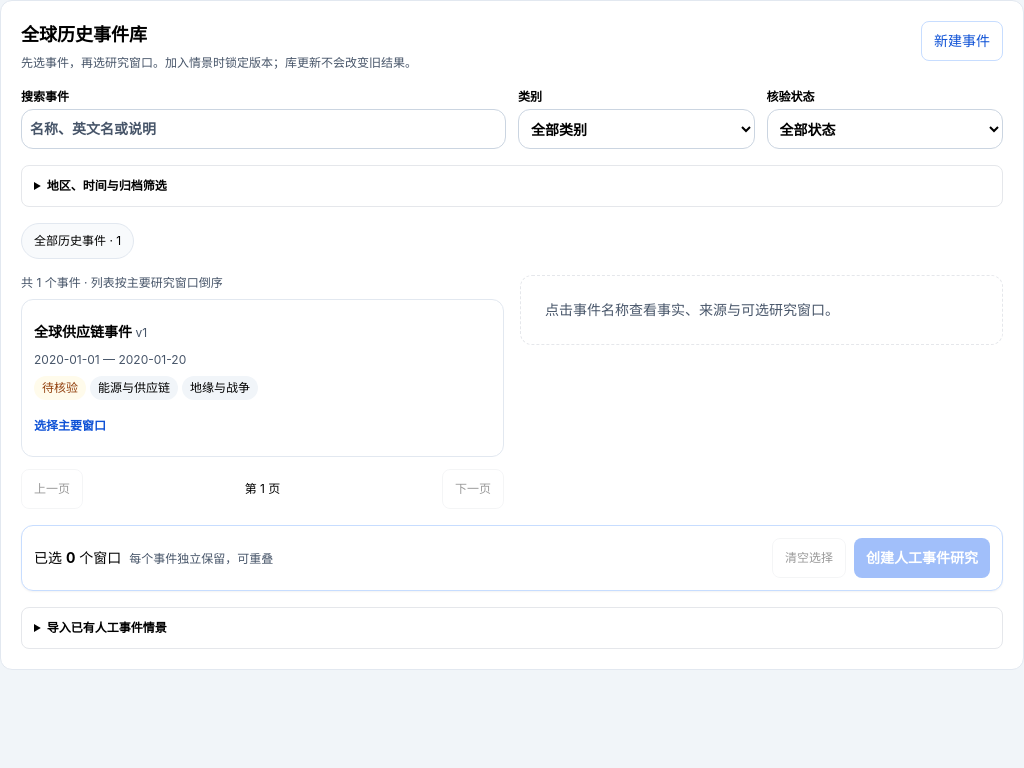
Test: 全球事件库 › 搜索请求使用当前筛选，空结果不会保留旧列表
Expected: the button "全球供应链事件 v1" is shown, [34,312,491,352]
Type "不存在的事件" into the search field named "事件库搜索".
click(264, 129); type("不存在的事件")  # box [21,109,506,149]
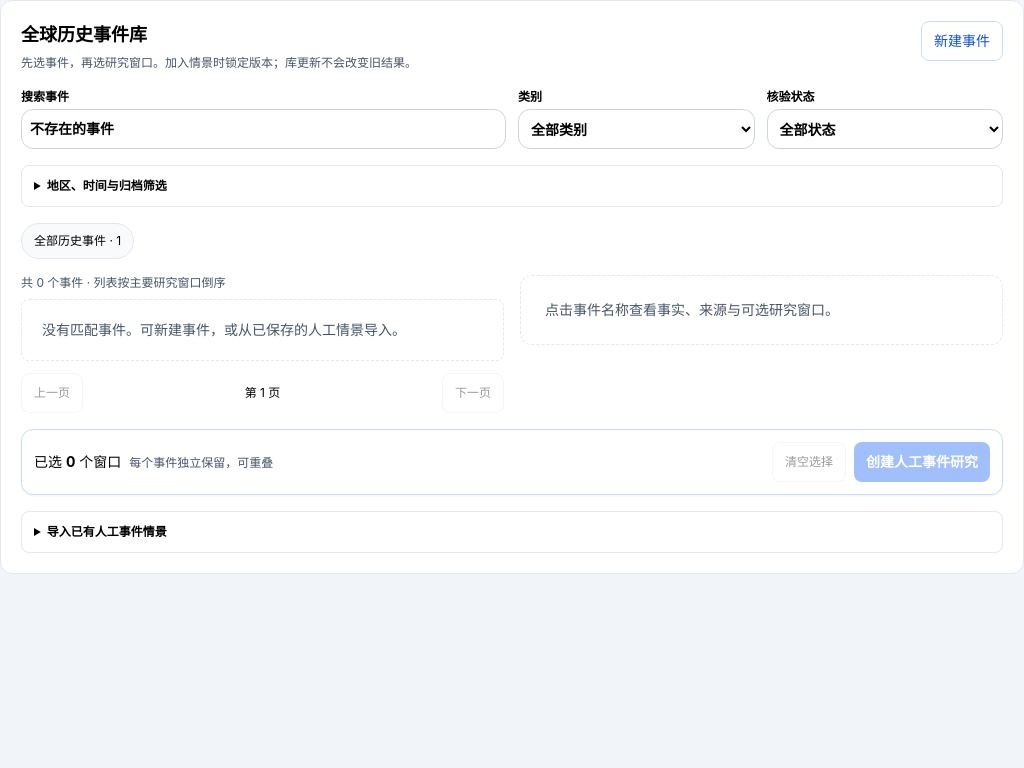
Expected: the text "没有匹配事件。可新建事件，或从已保存的人工情景导入。" is shown, [21,299,504,361]
Expected: the button "全球供应链事件" is gone
